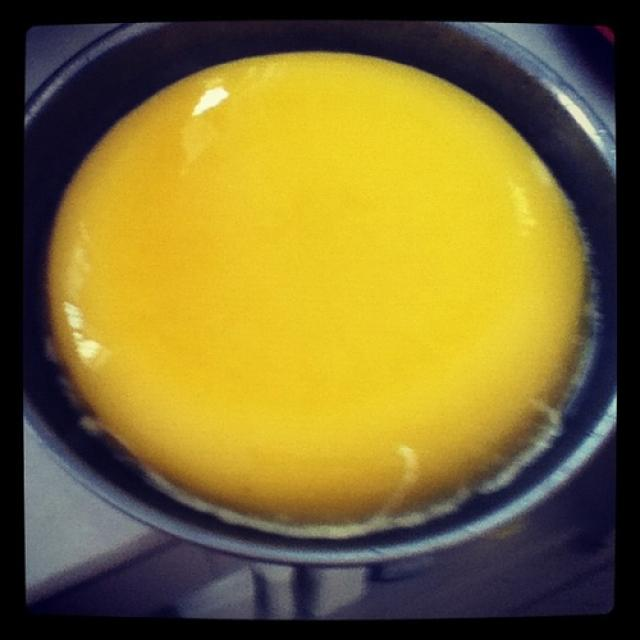蛋糕甜品: (32, 28, 580, 629)
